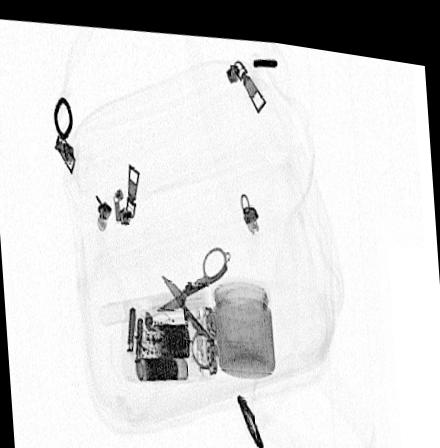Scissors: (153, 235, 227, 364)
